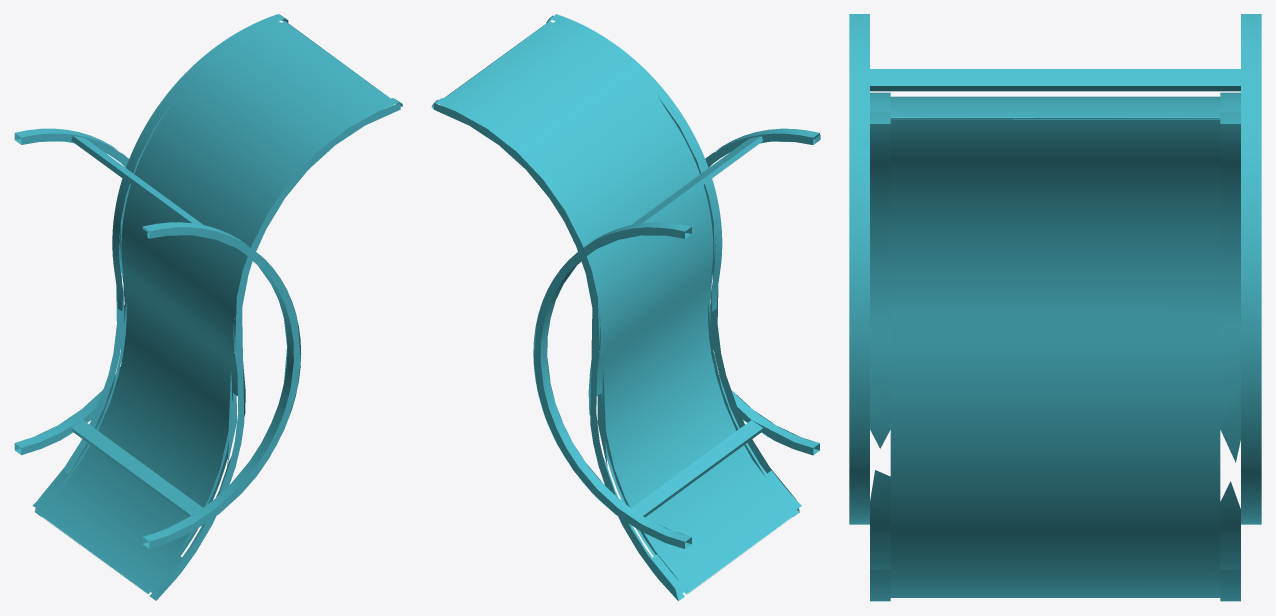
3 views of the same model, side by side, from view 1: azimuth 30°, elevation 25°; view 2: azimuth 150°, elevation 25°; view 3: azimuth 270°, elevation 25° (orthographic). The views are drawn at different scales.
Visible parts, largest first — view 1: Renderer Node; view 2: Renderer Node; view 3: Renderer Node.
Boxes of the visible parts, x1,y1,x2,y2 form: Renderer Node: (14,14,402,600); Renderer Node: (431,14,820,601); Renderer Node: (849,14,1261,601).
Size of the model in its own units: 0.4779 by 0.767 by 0.4267.
1 material, 1 textured.
